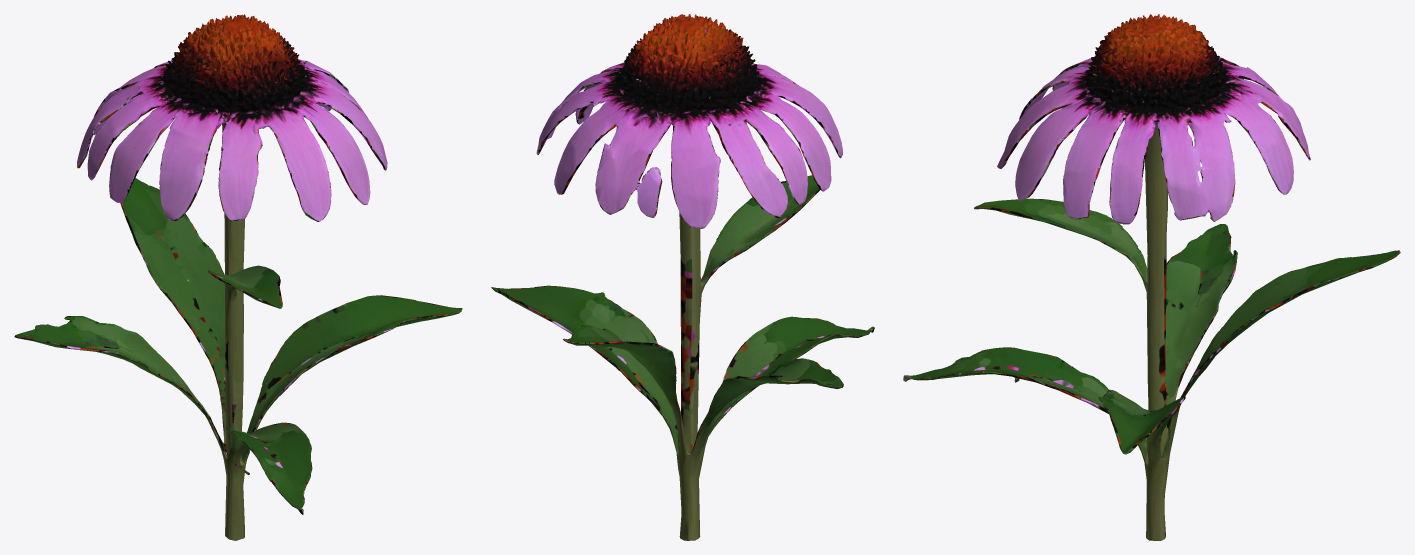
Rendered from echinacea.glb.
The picture shows the model from 3 angles, left to right: view 1: azimuth 30°, elevation 25°; view 2: azimuth 150°, elevation 25°; view 3: azimuth 270°, elevation 25°; orthographic projection.
Parts seen in each view (by area): view 1: world; view 2: world; view 3: world.
Part boxes in pixels (box(x1,y1,x2,y2)): world: box(14, 14, 462, 540); world: box(491, 14, 874, 540); world: box(903, 14, 1400, 540).
Size of the model in its own units: 1.62 by 1.99 by 1.74.
Materials: 1 (1 with a texture image).
